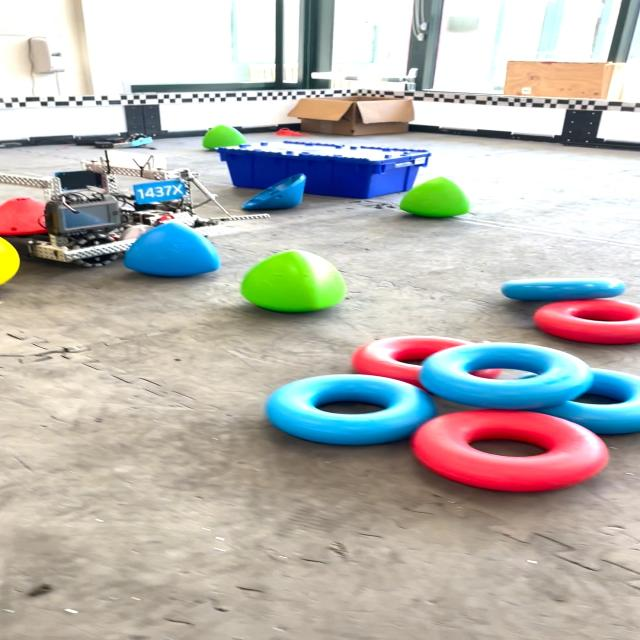Blue-Ring: (264, 374, 436, 445), (420, 342, 593, 409), (531, 369, 640, 434), (500, 278, 627, 301)
Red-Ring: (411, 410, 609, 491), (351, 335, 471, 389), (533, 299, 640, 344)
